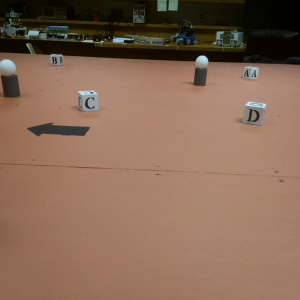blockA: (243, 65, 259, 80)
blockB: (49, 53, 64, 67)
blockC: (78, 90, 101, 112)
blockD: (241, 101, 268, 127)
obstacle: (1, 59, 19, 97), (192, 55, 209, 87)
start: (24, 120, 92, 143)
